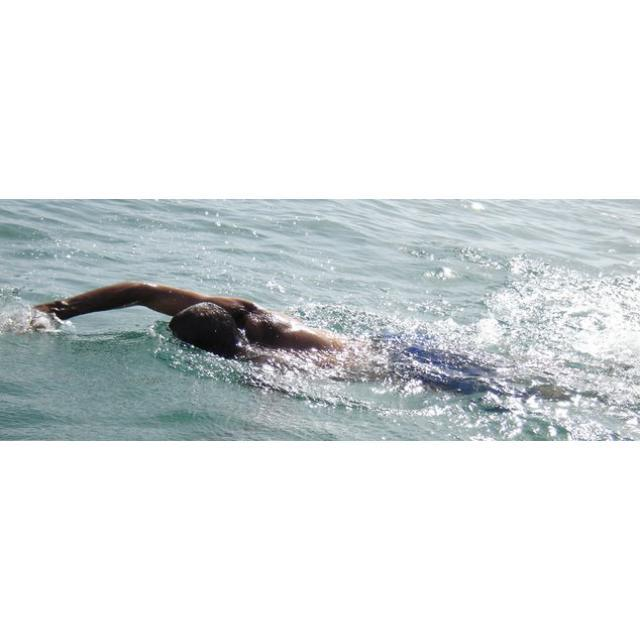human: (32, 279, 416, 375)
